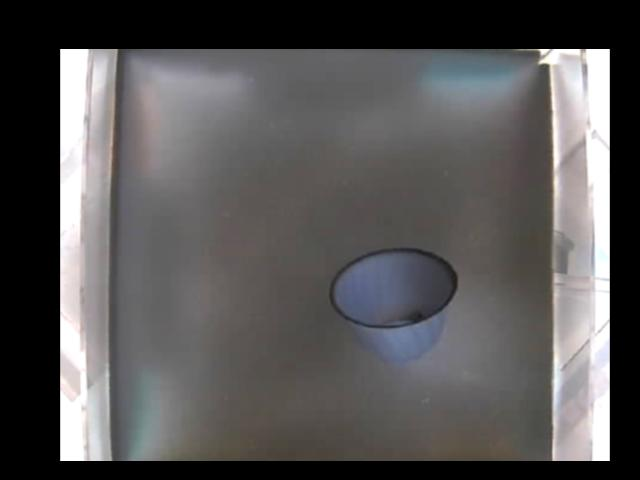Cup: (329, 248, 458, 361)
